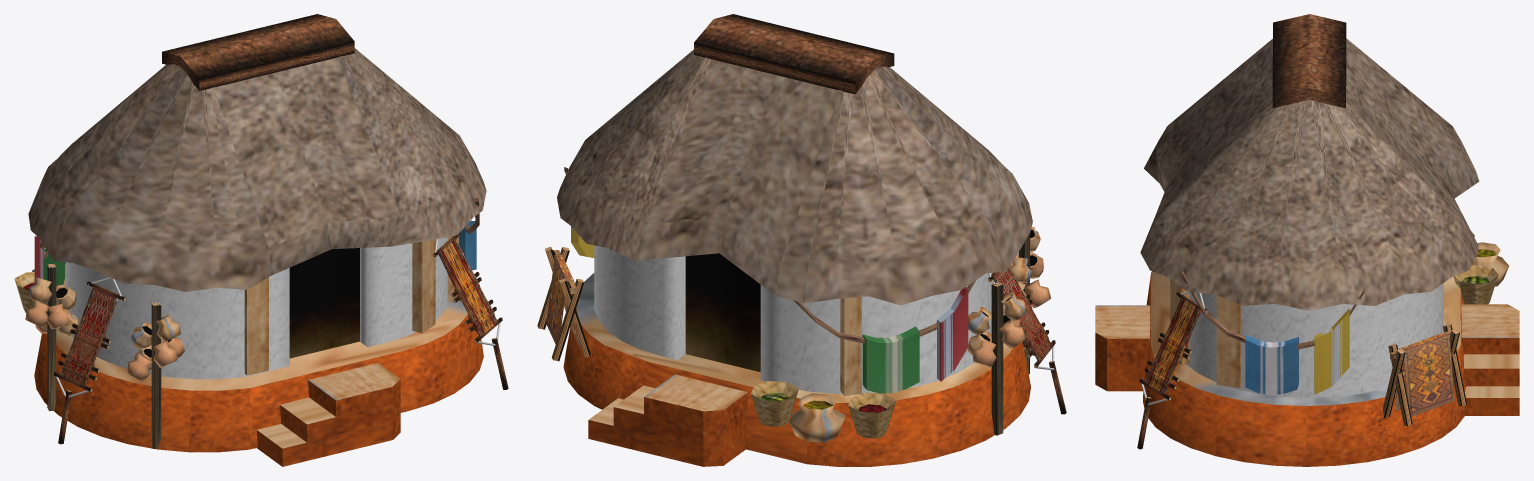
The model's file is house_2.dae.
The picture shows the model from 3 angles, left to right: view 1: azimuth 30°, elevation 25°; view 2: azimuth 150°, elevation 25°; view 3: azimuth 270°, elevation 25°; orthographic projection. The views are drawn at different scales.
Parts seen in each view (by area): view 1: house_2; view 2: house_2; view 3: house_2.
Boxes of the visible parts, left/top/right/bottom form: house_2: left=14, top=14, right=508, bottom=466; house_2: left=537, top=14, right=1066, bottom=466; house_2: left=1095, top=14, right=1519, bottom=466.
Bounding box in the file's own units: 13.55 × 11.75 × 9.82.
